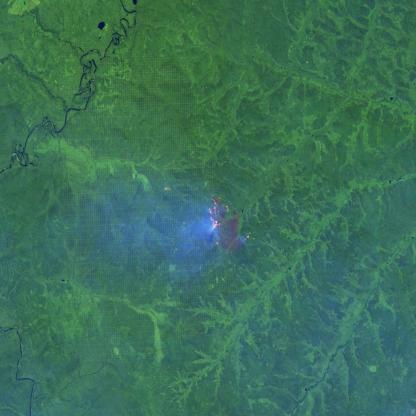fire: (203, 187, 252, 252)
